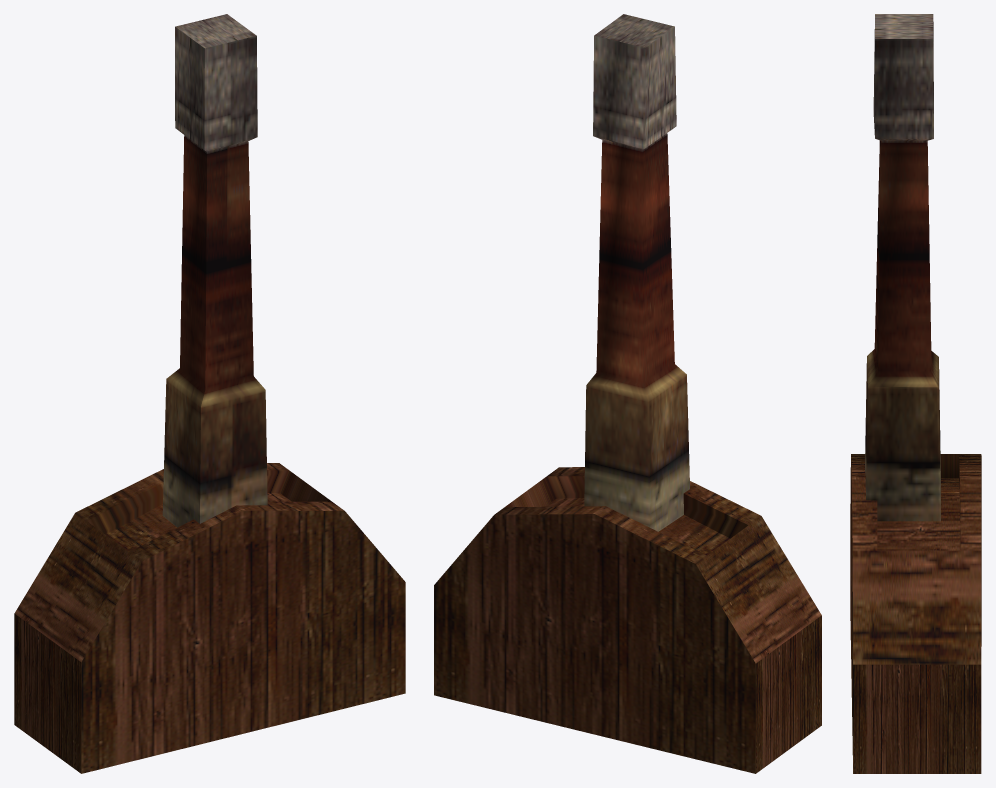
Rendered from button01.obj.
3 renders of one model, left to right at view 1: azimuth 30°, elevation 25°; view 2: azimuth 150°, elevation 25°; view 3: azimuth 270°, elevation 25°, orthographic. The views are drawn at different scales.
Parts seen in each view (by area): view 1: 1, 0; view 2: 1, 0; view 3: 1, 0.
Boxes of the visible parts, box(x1,y1,x2,y2) form: 1: box(14, 463, 405, 773); 0: box(162, 14, 267, 527); 1: box(434, 467, 821, 773); 0: box(584, 14, 689, 531); 1: box(850, 454, 981, 773); 0: box(865, 14, 940, 521).
Bounding box in the file's own units: 14.96 × 30 × 5.33.
